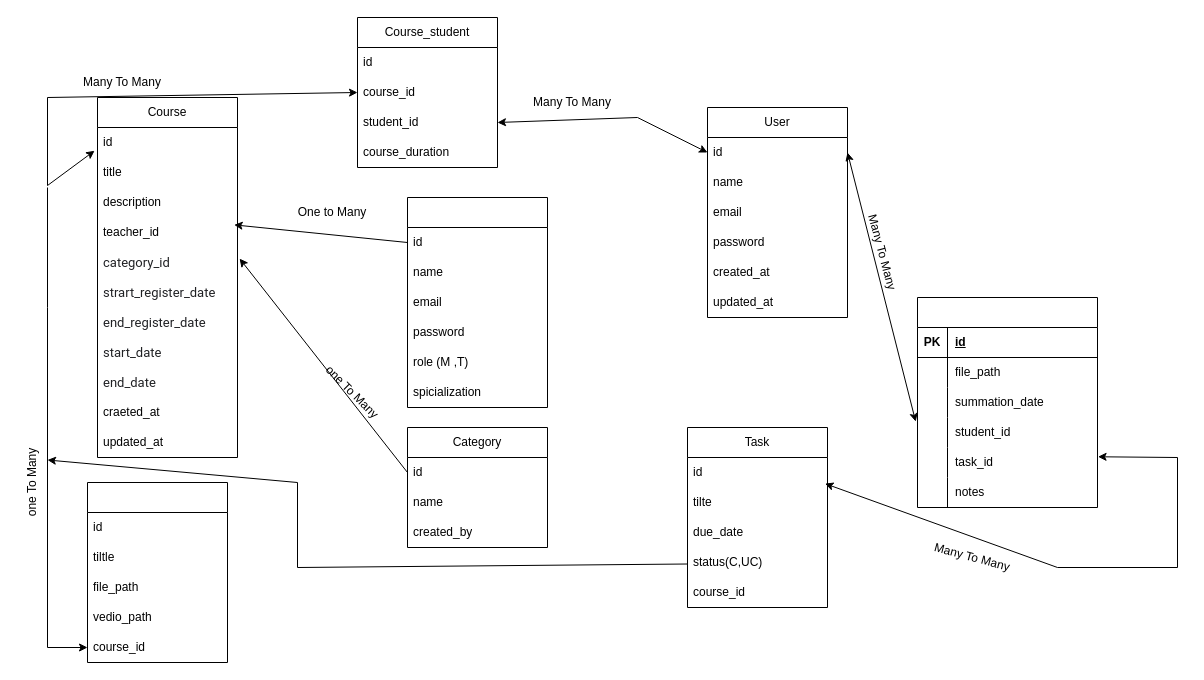
Image size: 1204x680. Some labels were removed from this diagram. The shapes that lost their labels are listed below. From the top down, each one's box as (x1, y1, x2, y2) in pixels, then its label:
(406, 196, 548, 408): teacher
(916, 296, 1098, 508): Task_User
(86, 482, 228, 662): Material
